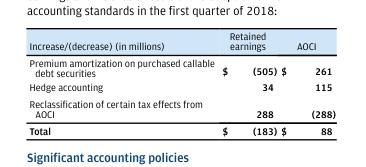table: (28, 29, 335, 135)
table column: (28, 29, 217, 135), (217, 29, 278, 135), (278, 29, 335, 135)
table column header: (28, 29, 335, 53)
table row: (28, 94, 335, 121), (28, 53, 335, 79), (28, 29, 335, 53), (28, 79, 335, 94), (28, 121, 335, 135)
